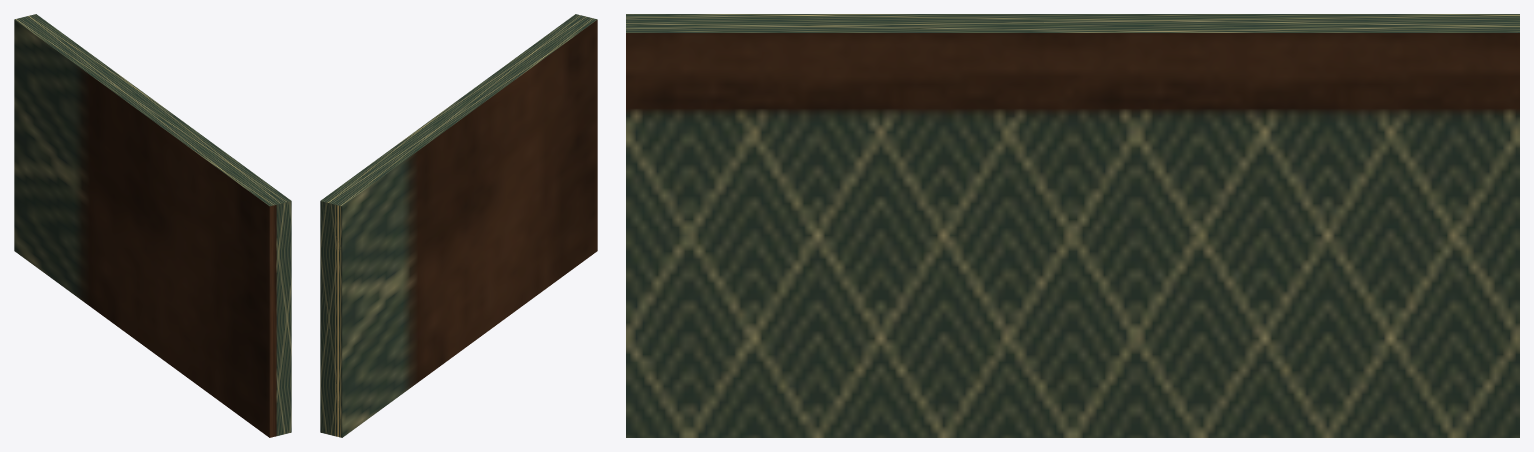
File: Wall_Top.glb
3 renders of one model, left to right at view 1: azimuth 30°, elevation 25°; view 2: azimuth 150°, elevation 25°; view 3: azimuth 270°, elevation 25°, orthographic. The views are drawn at different scales.
Visible parts, largest first — view 1: Wall_Top; view 2: Wall_Top; view 3: Wall_Top.
Boxes of the visible parts, bbox=[...] form: Wall_Top: bbox=[14, 14, 291, 437]; Wall_Top: bbox=[320, 14, 597, 437]; Wall_Top: bbox=[626, 14, 1519, 437].
Bounding box in the file's own units: 0.1 × 1 × 2.
Materials: 1 (1 with a texture image).
